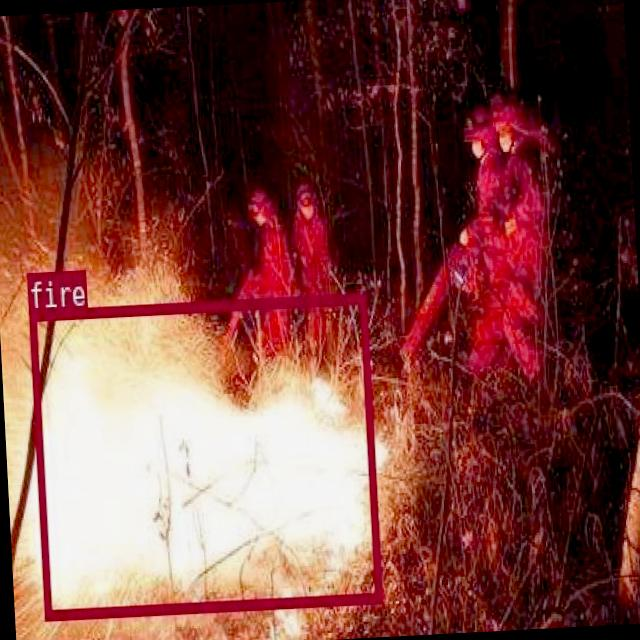fire: (28, 292, 381, 618)
